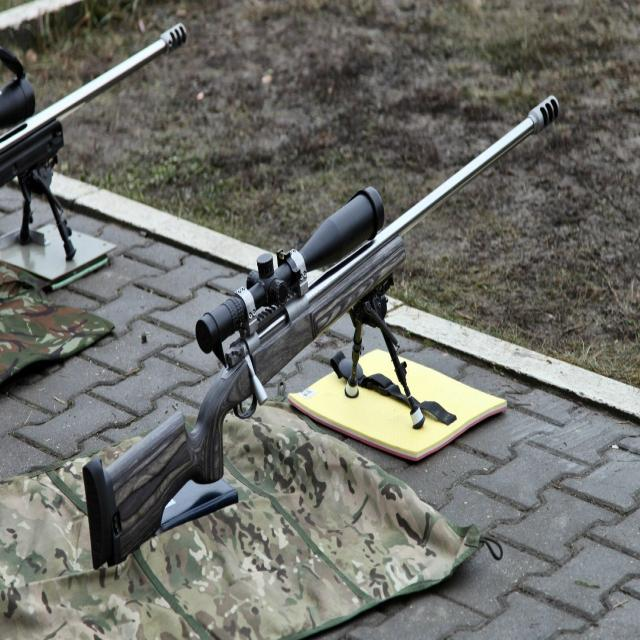firearm: (80, 88, 562, 575), (0, 18, 189, 264)
